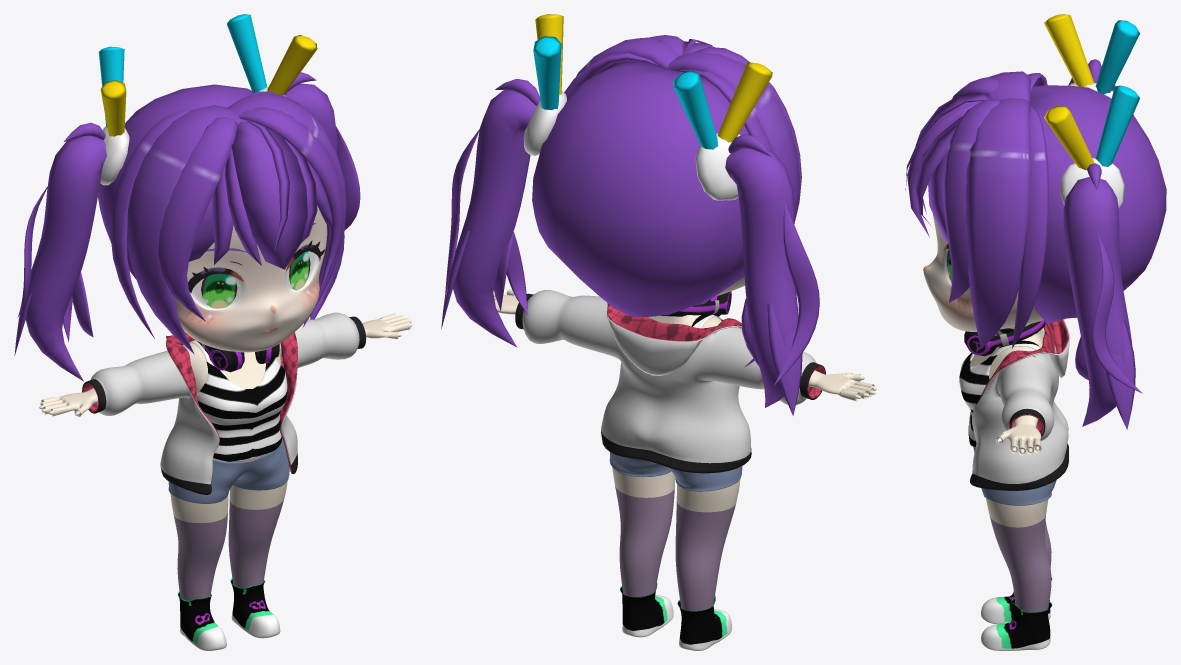
Rendered from animyuko_mini1.glb.
3 views of the same model, side by side, from view 1: azimuth 30°, elevation 25°; view 2: azimuth 150°, elevation 25°; view 3: azimuth 270°, elevation 25° (orthographic). The views are drawn at different scales.
Visible parts, largest first — view 1: hair.side.003, hair.tale.004, hair.front.005, body, jacket, body.head, cloth.tops, penlight, hair.back, shoes, pant, jacket.ura (+5 smaller); view 2: hair.back, hair.tale.004, jacket, body, hair.side.003, penlight, shoes, penlight.stand, pant, jacket.ura, headphone; view 3: hair.side.003, hair.back, hair.tale.004, jacket, body, penlight, hair.front.005, shoes, body.head, cloth.tops, jacket.ura, penlight.stand (+2 smaller).
Part boxes in pixels (x1,y1,x2,y2): hair.side.003: (110, 91, 346, 354); hair.tale.004: (14, 72, 360, 381); hair.front.005: (189, 119, 332, 269); body: (39, 313, 412, 600); jacket: (82, 312, 366, 494); body.head: (174, 206, 327, 352); cloth.tops: (189, 339, 287, 462); penlight: (98, 14, 317, 136); hair.back: (98, 84, 254, 279); shoes: (178, 578, 280, 650); pant: (168, 439, 289, 503); jacket.ura: (82, 332, 297, 492); hair.back: (532, 61, 748, 316); hair.tale.004: (441, 79, 819, 415); jacket: (515, 290, 825, 473); body: (493, 288, 876, 610); hair.side.003: (564, 35, 801, 223); penlight: (533, 14, 772, 149); shoes: (620, 583, 731, 650); penlight.stand: (523, 91, 740, 200); pant: (609, 452, 742, 491); jacket.ura: (607, 303, 825, 398); headphone: (674, 291, 731, 316); hair.side.003: (943, 71, 1048, 348); hair.back: (1030, 85, 1166, 323); hair.tale.004: (1063, 59, 1142, 429); jacket: (970, 319, 1070, 490); body: (970, 324, 1051, 611); penlight: (1044, 14, 1139, 170); hair.front.005: (905, 94, 990, 242); shoes: (981, 577, 1052, 650); body.head: (923, 214, 1043, 331); cloth.tops: (959, 327, 1043, 446); jacket.ura: (975, 319, 1068, 435); penlight.stand: (1060, 83, 1124, 208).
Bounding box in the file's own units: 0.2946 × 0.4284 × 0.1759.
21 materials, 15 textured.
